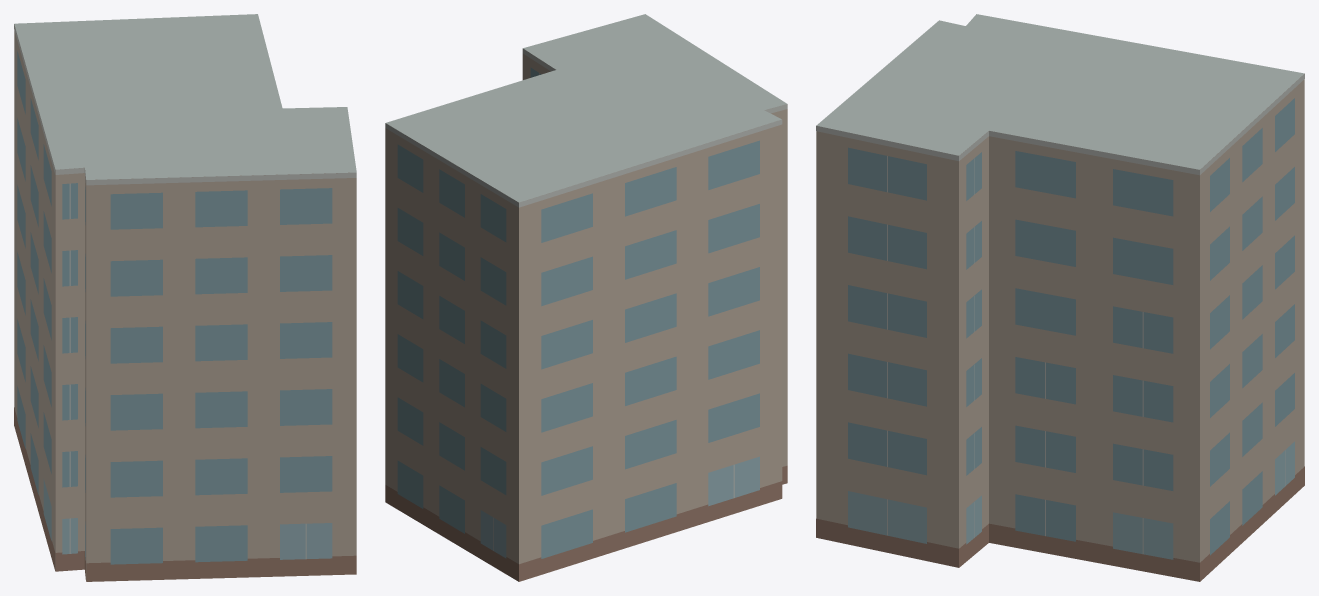
File: survey-upis-32961859.glb
3 views of the same model, side by side, from view 1: azimuth 30°, elevation 25°; view 2: azimuth 150°, elevation 25°; view 3: azimuth 270°, elevation 25° (orthographic). The views are drawn at different scales.
Parts seen in each view (by area): view 1: survey-upis-32961859.tmp; view 2: survey-upis-32961859.tmp; view 3: survey-upis-32961859.tmp.
Boxes of the visible parts, bbox=[...] form: survey-upis-32961859.tmp: bbox=[14, 14, 356, 581]; survey-upis-32961859.tmp: bbox=[385, 14, 787, 581]; survey-upis-32961859.tmp: bbox=[816, 14, 1304, 581].
Size of the model in its own units: 14.94 by 18.4 by 19.78.
